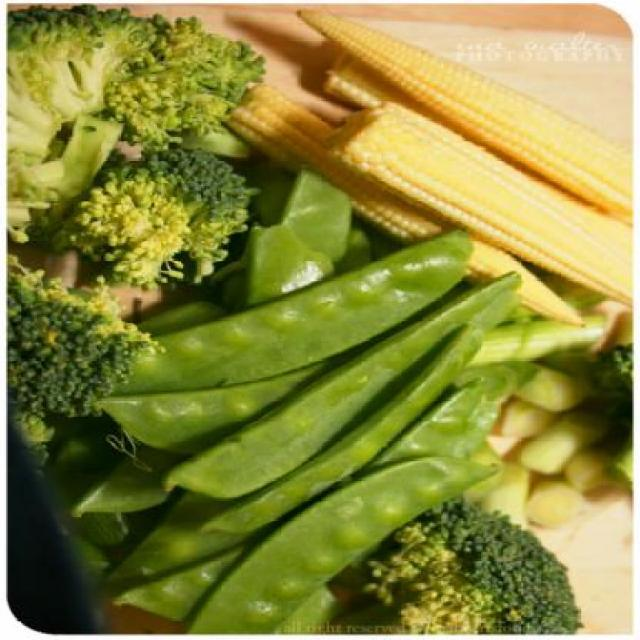Broccoli: (0, 0, 274, 489), (332, 493, 583, 636)
